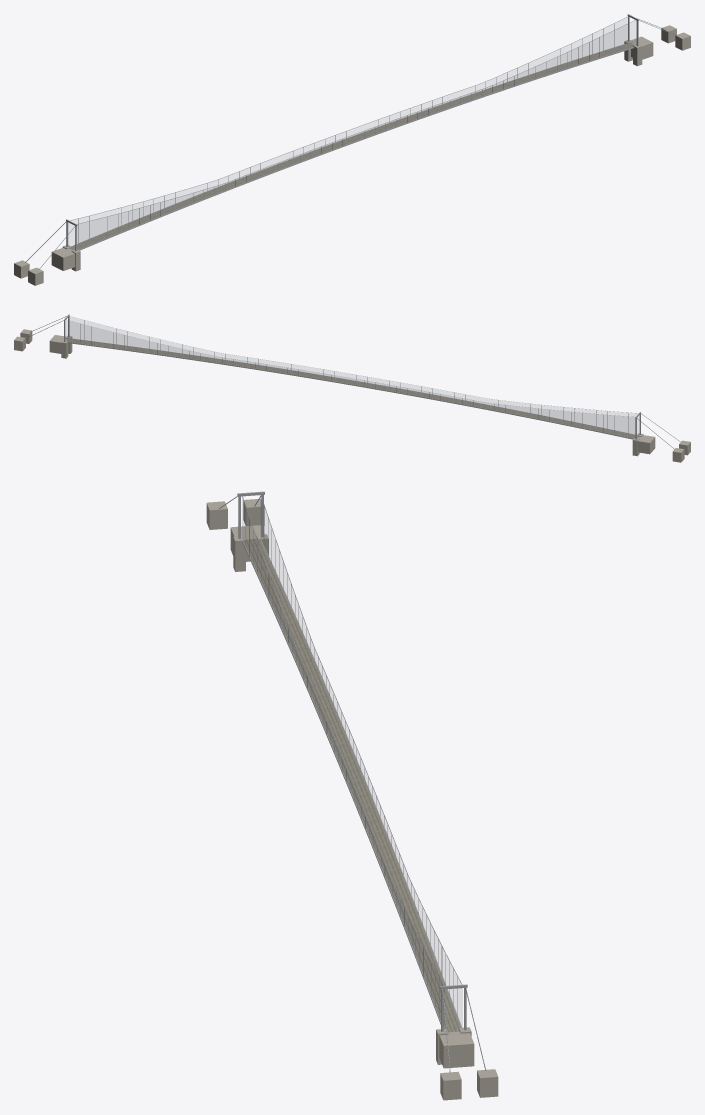
File: pukaki-upper-hooker-bridge.glb
3 views of the same model, one above another, from view 1: azimuth 30°, elevation 25°; view 2: azimuth 150°, elevation 25°; view 3: azimuth 270°, elevation 25° (orthographic). The views are drawn at different scales.
Parts seen in each view (by area): view 1: Upper_Hooker_bridge; view 2: Upper_Hooker_bridge; view 3: Upper_Hooker_bridge.
Part boxes in pixels (x1=…): Upper_Hooker_bridge: x1=14, y1=14, x2=690, y2=285; Upper_Hooker_bridge: x1=14, y1=314, x2=690, y2=462; Upper_Hooker_bridge: x1=206, y1=491, x2=498, y2=1100.
Size of the model in its own units: 91.18 by 6.48 by 18.83.
5 materials, 1 textured.
